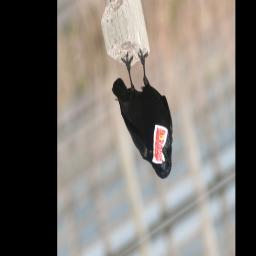Crow: (106, 31, 182, 203)
